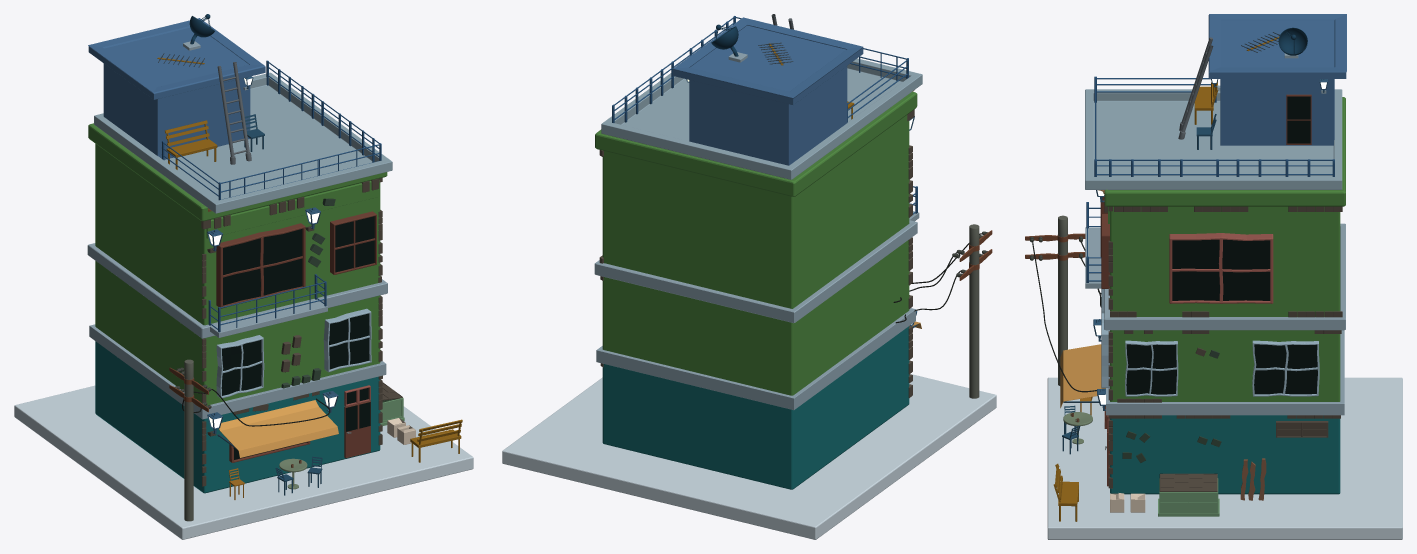
The model's file is cafe_shop.glb.
3 renders of one model, left to right at view 1: azimuth 30°, elevation 25°; view 2: azimuth 150°, elevation 25°; view 3: azimuth 270°, elevation 25°, orthographic. The views are drawn at different scales.
Visible parts, largest first — view 1: Cube, GROUND, Cube.003, ROOF ROOM, WINDOW GLASS.003, SHOP COVER SHEET, RALING, BIM, BRICK, Cube.002, WINDOW RALLING.007, WINDOW GLASS.002 (+12 smaller); view 2: Cube, GROUND, ROOF ROOM, Cube.003, Cube.002, BIM, RALING, ELECTIC PILLAR, BRICK; view 3: Cube, GROUND, Cube.003, ROOF ROOM, WINDOW GLASS.006, Cube.002, BRICK, BIM, RALING, WINDOW GLASS.005, WINDOW GLASS.004, WINDOW RALLING.013 (+19 smaller).
Part boxes in pixels (bbox=[...]): Cube: bbox=[88, 123, 387, 493]; GROUND: bbox=[14, 385, 473, 539]; Cube.003: bbox=[94, 72, 392, 213]; ROOF ROOM: bbox=[88, 18, 265, 159]; WINDOW GLASS.003: bbox=[223, 229, 302, 305]; SHOP COVER SHEET: bbox=[219, 400, 338, 457]; RALING: bbox=[161, 60, 381, 332]; BIM: bbox=[89, 324, 386, 419]; BRICK: bbox=[201, 178, 382, 486]; Cube.002: bbox=[87, 243, 387, 338]; WINDOW RALLING.007: bbox=[216, 223, 305, 308]; WINDOW GLASS.002: bbox=[335, 216, 374, 272]; Cube: bbox=[595, 91, 917, 489]; GROUND: bbox=[502, 374, 996, 539]; ROOF ROOM: bbox=[673, 17, 863, 165]; Cube.003: bbox=[601, 58, 922, 179]; Cube.002: bbox=[594, 220, 917, 323]; BIM: bbox=[596, 308, 915, 410]; RALING: bbox=[612, 16, 917, 214]; ELECTIC PILLAR: bbox=[969, 224, 979, 398]; BRICK: bbox=[599, 109, 914, 398]; Cube: bbox=[1104, 97, 1345, 494]; GROUND: bbox=[1047, 377, 1402, 539]; Cube.003: bbox=[1085, 89, 1342, 189]; ROOF ROOM: bbox=[1208, 14, 1346, 145]; WINDOW GLASS.006: bbox=[1172, 239, 1270, 300]; Cube.002: bbox=[1104, 223, 1345, 330]; BRICK: bbox=[1104, 194, 1342, 488]; BIM: bbox=[1106, 330, 1344, 415]; RALING: bbox=[1086, 76, 1334, 282]; WINDOW GLASS.005: bbox=[1254, 344, 1317, 394]; WINDOW GLASS.004: bbox=[1126, 344, 1176, 394]; WINDOW RALLING.013: bbox=[1169, 233, 1273, 303].
Size of the model in its own units: 12.05 by 16.04 by 12.81.
